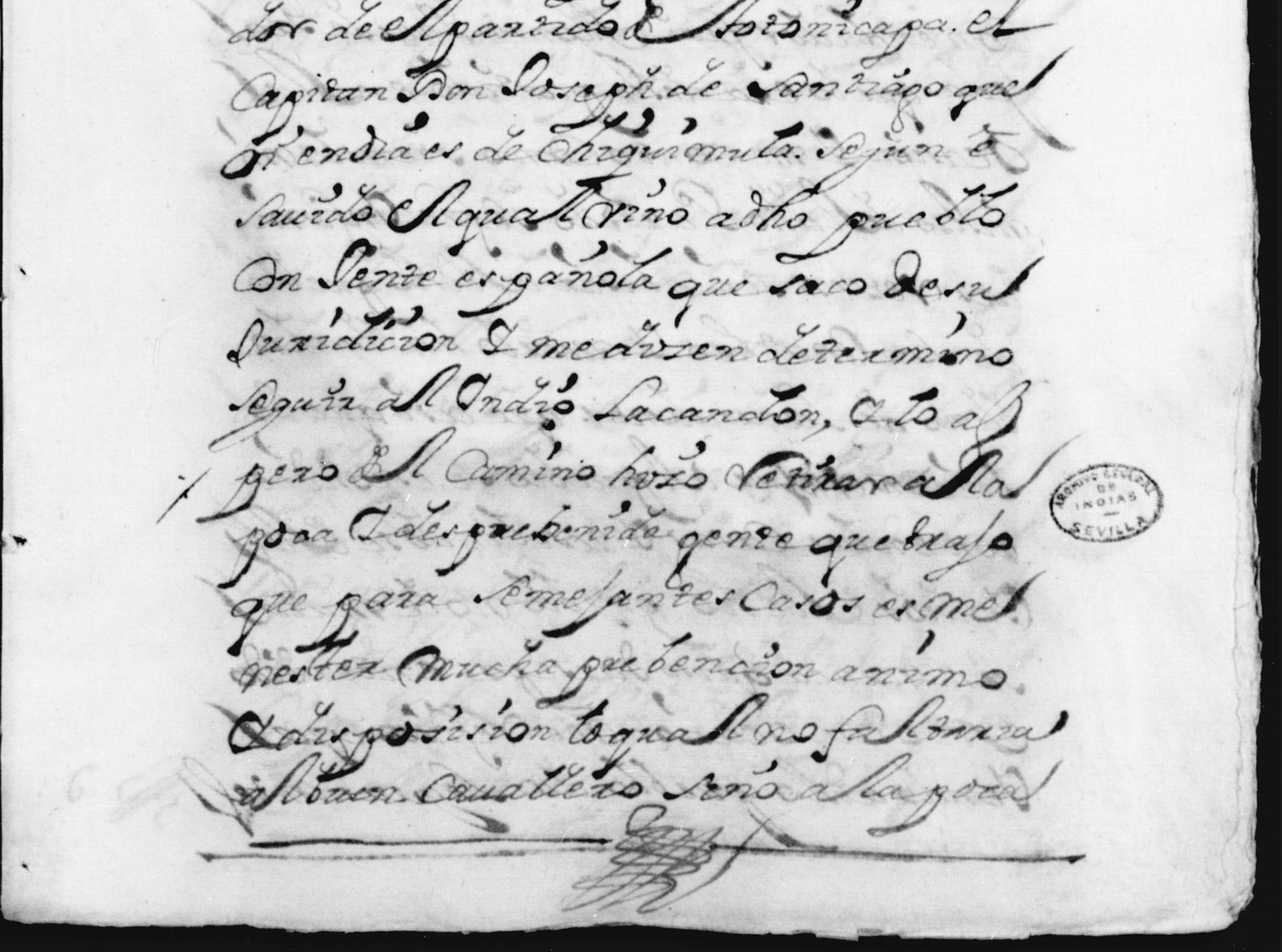lacandon: (592, 375, 819, 425)
